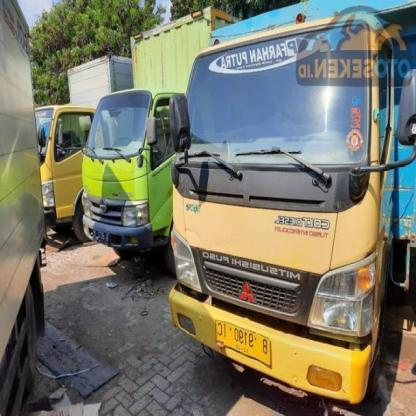truck: (168, 1, 416, 409), (85, 1, 241, 274)
